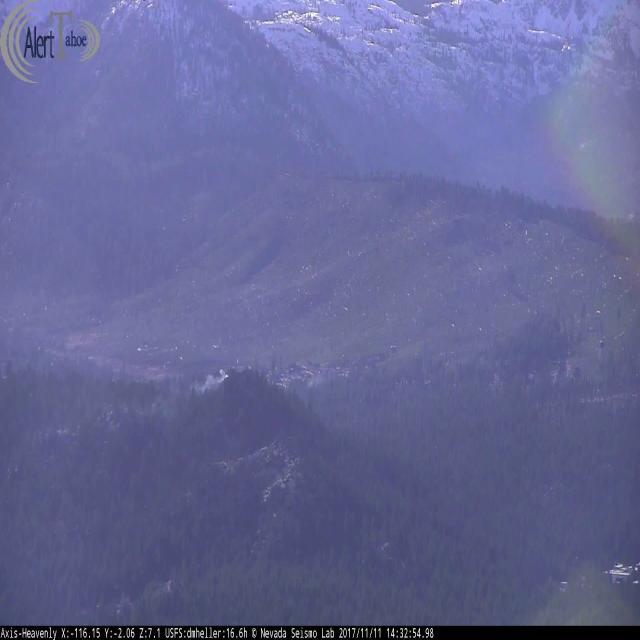smoke: (4, 367, 229, 484), (304, 360, 337, 390)
